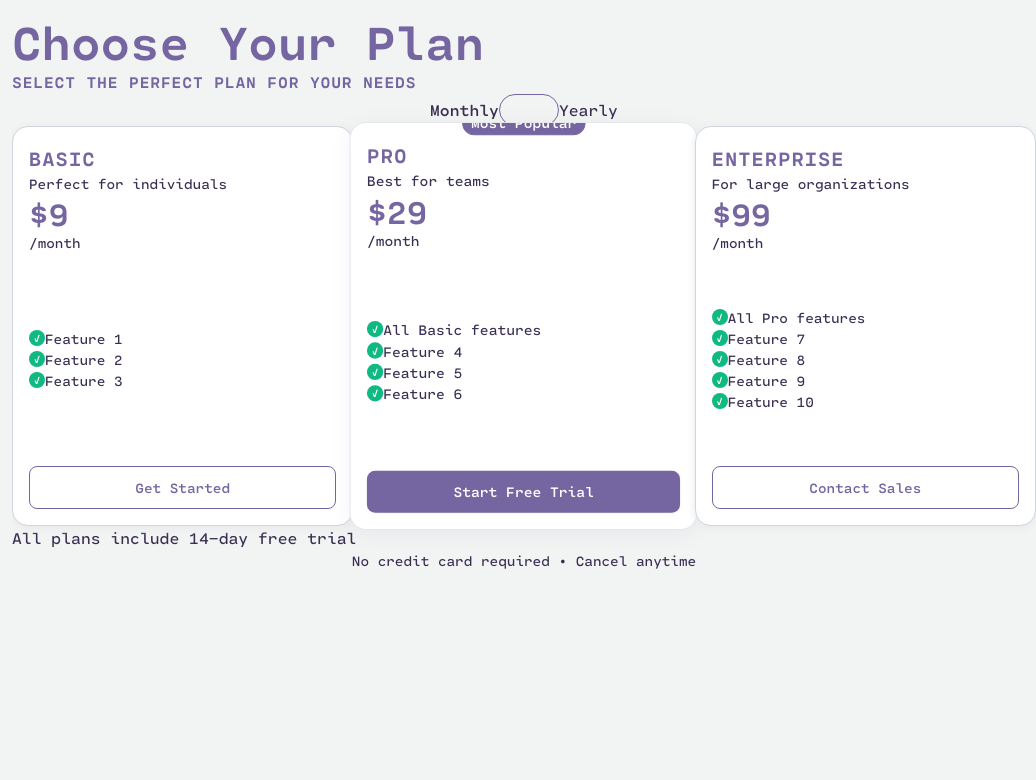
Test: PricingPage › renders yearly pricing when toggled
This screenshot has width=1036, height=780.
Step 1. Click the button named "yearly" → (529, 110), box left=499, top=94, right=559, bottom=126
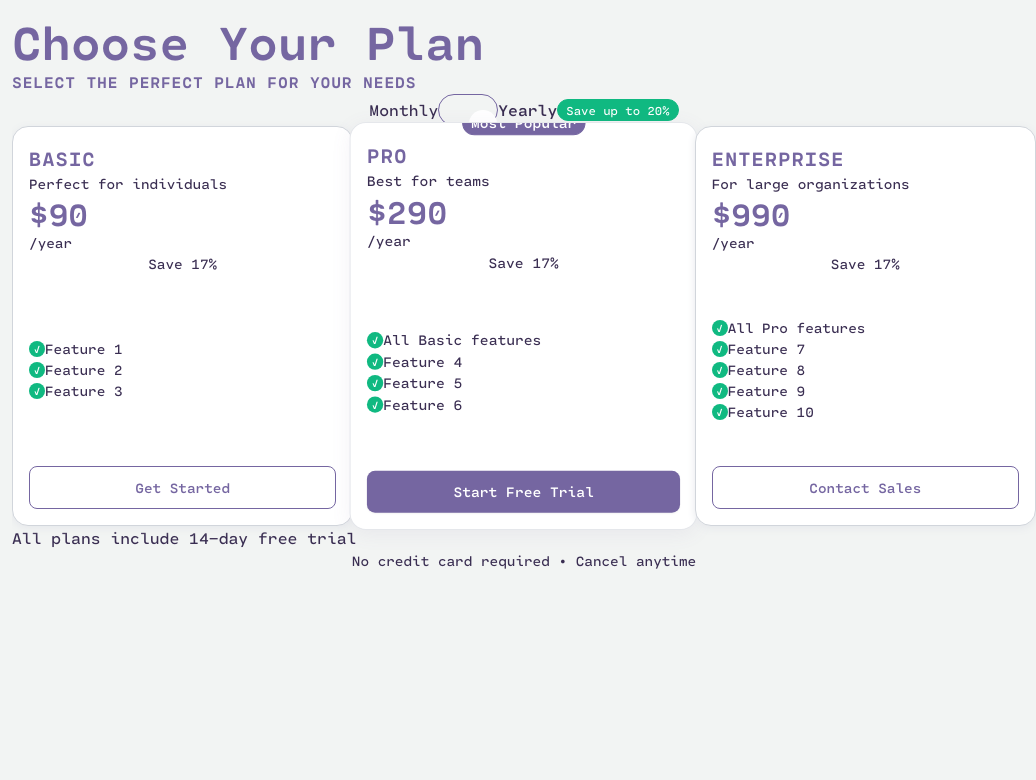
expect the heading "$90" is shown: met, box left=29, top=194, right=88, bottom=232
expect the heading "$290" is shown: met, box left=367, top=191, right=448, bottom=230
expect the heading "$990" is shown: met, box left=712, top=194, right=790, bottom=232
